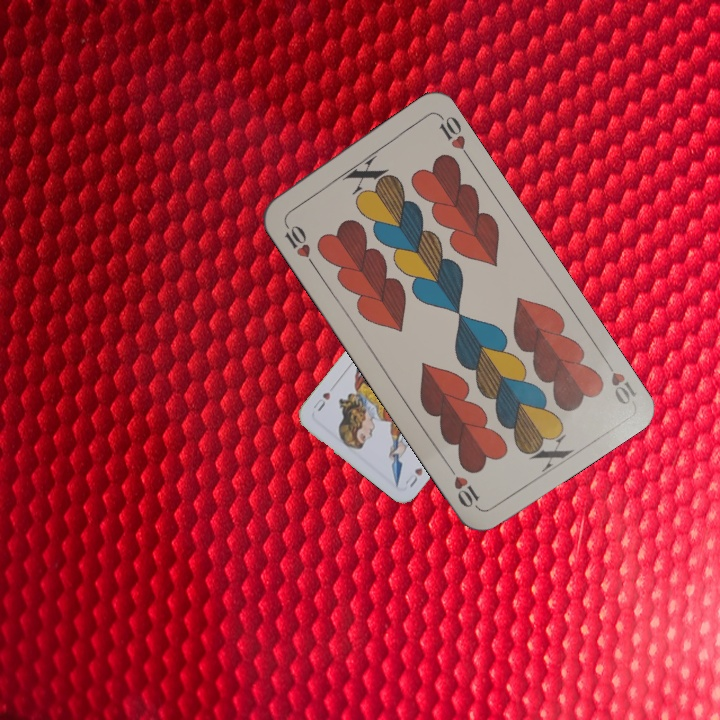H10: (598, 353, 639, 408), (279, 217, 318, 270)
HU: (401, 464, 425, 490)
